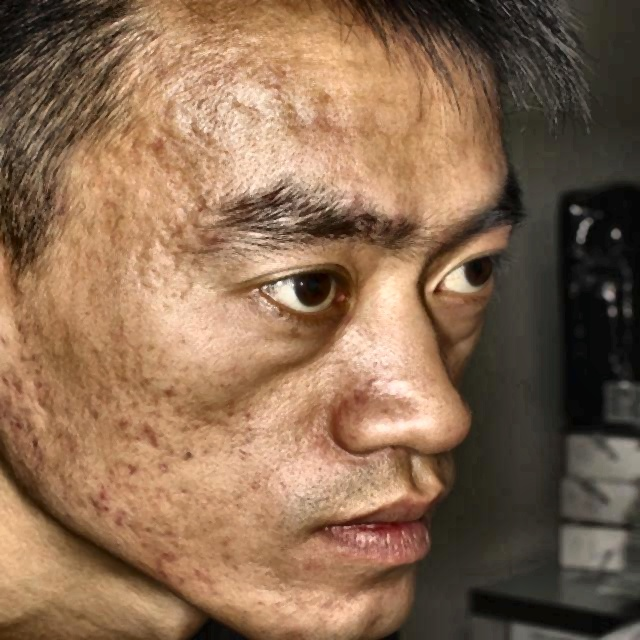pustule: (150, 547, 175, 586), (138, 416, 166, 446), (5, 404, 34, 430), (188, 564, 213, 594), (61, 421, 82, 456), (123, 456, 147, 484), (202, 227, 229, 249), (147, 133, 166, 158), (125, 514, 144, 538), (90, 492, 106, 515), (112, 504, 124, 532)
